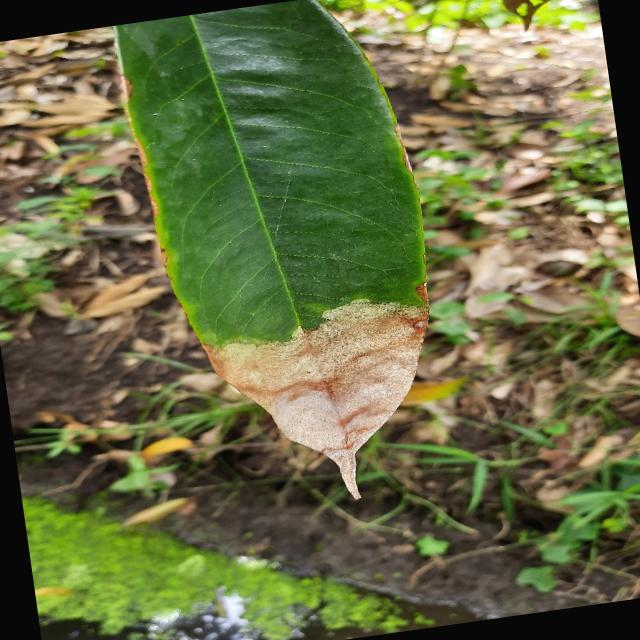Leaf Blight: (106, 0, 471, 531)
